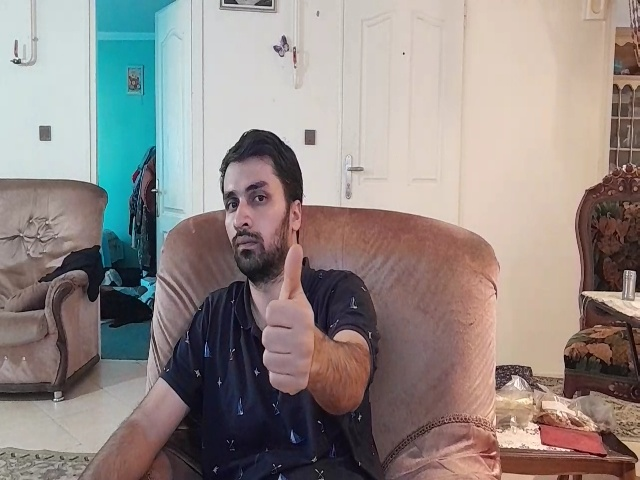ThumbsUp: (261, 241, 316, 398)
